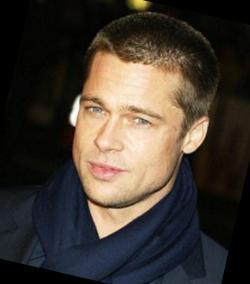Sober: (78, 60, 176, 193)
